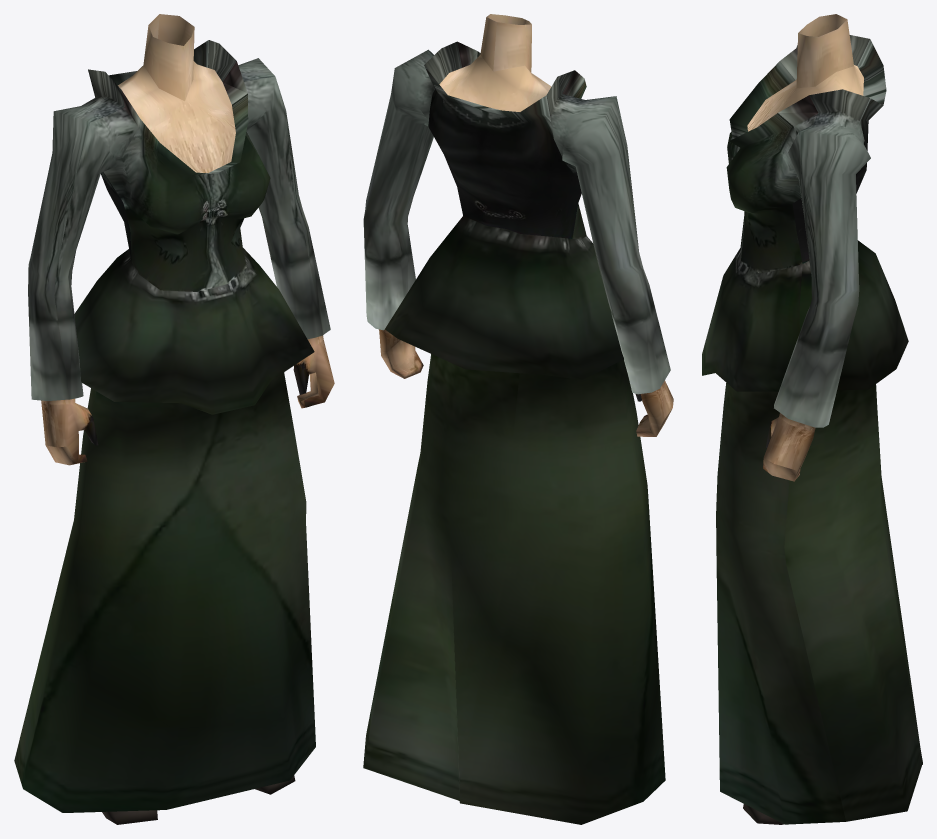
The model's file is ARMOR_KM_VLKBABE_02.glb.
3 views of the same model, side by side, from view 1: azimuth 30°, elevation 25°; view 2: azimuth 150°, elevation 25°; view 3: azimuth 270°, elevation 25° (orthographic).
Parts seen in each view (by area): view 1: ARMOR_KM_VLKBABE_02; view 2: ARMOR_KM_VLKBABE_02; view 3: ARMOR_KM_VLKBABE_02.
Boxes of the visible parts, left/top/right/bottom form: ARMOR_KM_VLKBABE_02: left=14, top=14, right=334, bottom=824; ARMOR_KM_VLKBABE_02: left=363, top=14, right=673, bottom=824; ARMOR_KM_VLKBABE_02: left=702, top=14, right=922, bottom=824.
Size of the model in its own units: 0.6681 by 1.68 by 0.4406.
Materials: 2 (2 with a texture image).
